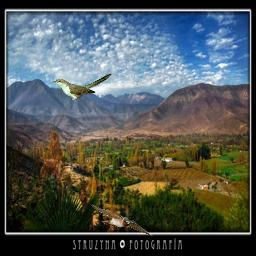Cuckoo: (52, 73, 112, 100)
Swallow: (89, 203, 153, 236)
